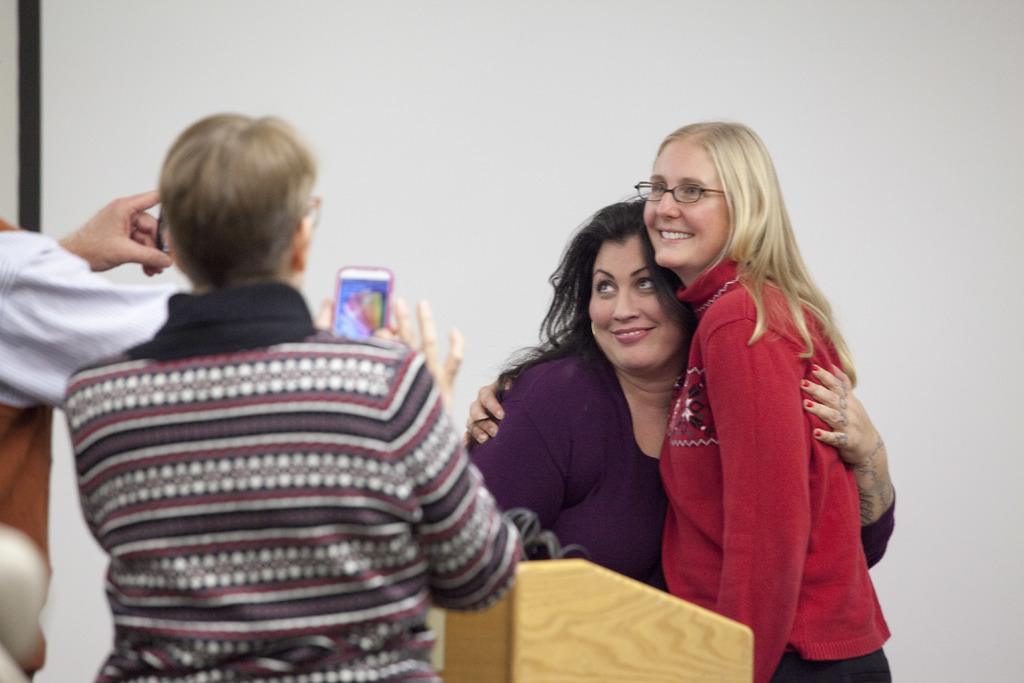Human_hand: (372, 292, 465, 420), (65, 169, 166, 272), (795, 360, 884, 466), (459, 373, 520, 450), (310, 293, 394, 334)
